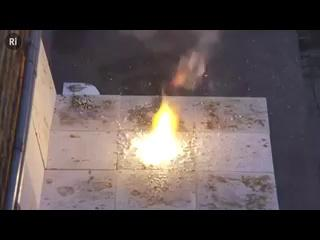Fire: (137, 90, 181, 166)
